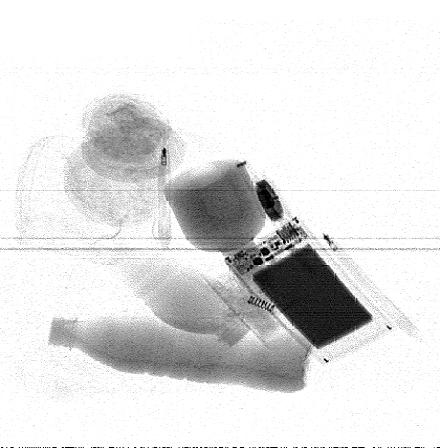Powerbank: (222, 214, 396, 368)
